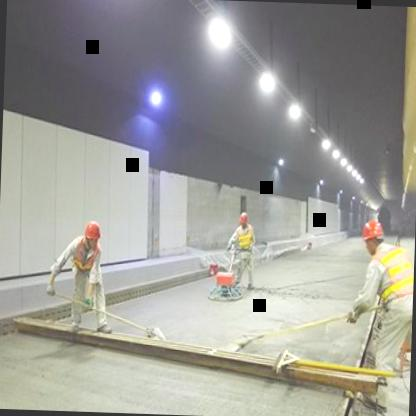helmet: (360, 218, 388, 260), (82, 217, 103, 252), (238, 207, 250, 232)
